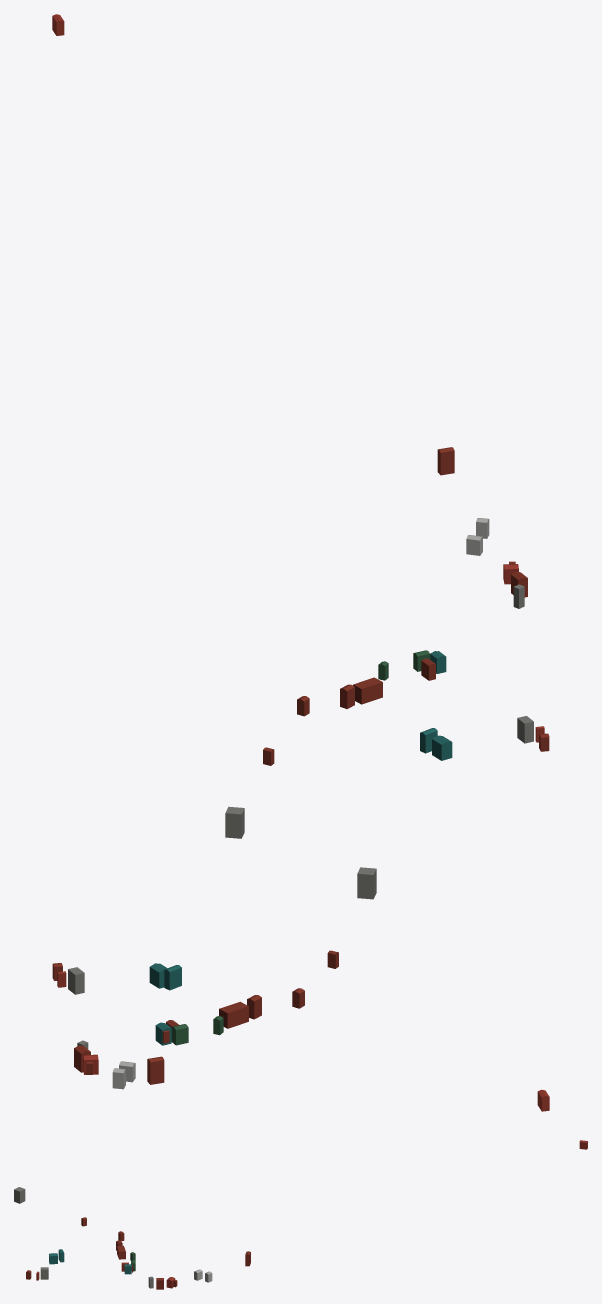
Rendered from near-15-27349-14866.d4849124.glb.
3 views of the same model, one above another, from view 1: azimuth 30°, elevation 25°; view 2: azimuth 210°, elevation 25°; view 3: azimuth 270°, elevation 25° (orthographic). The views are drawn at different scales.
Bounding box in the file's own units: 541 × 358 × 1179.
